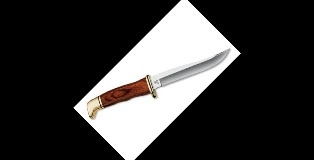k1: (144, 43, 232, 99)
